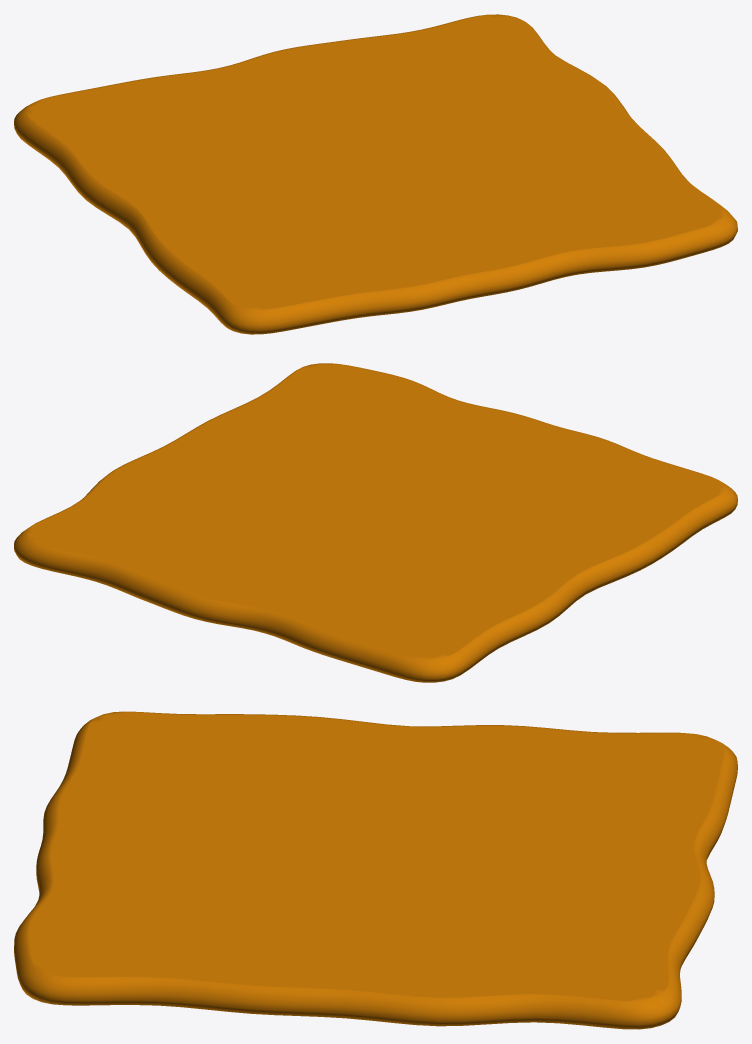
Rendered from testmodelsCube_102.fbx.
3 renders of one model, top to bottom at view 1: azimuth 30°, elevation 25°; view 2: azimuth 150°, elevation 25°; view 3: azimuth 270°, elevation 25°, orthographic. The views are drawn at different scales.
Visible parts, largest first — view 1: Cube.102; view 2: Cube.102; view 3: Cube.102.
Boxes of the visible parts, left/top/right/bottom form: Cube.102: left=14, top=14, right=737, bottom=334; Cube.102: left=14, top=363, right=737, bottom=682; Cube.102: left=14, top=711, right=737, bottom=1029.
Size of the model in its own units: 758 by 27.73 by 771.
